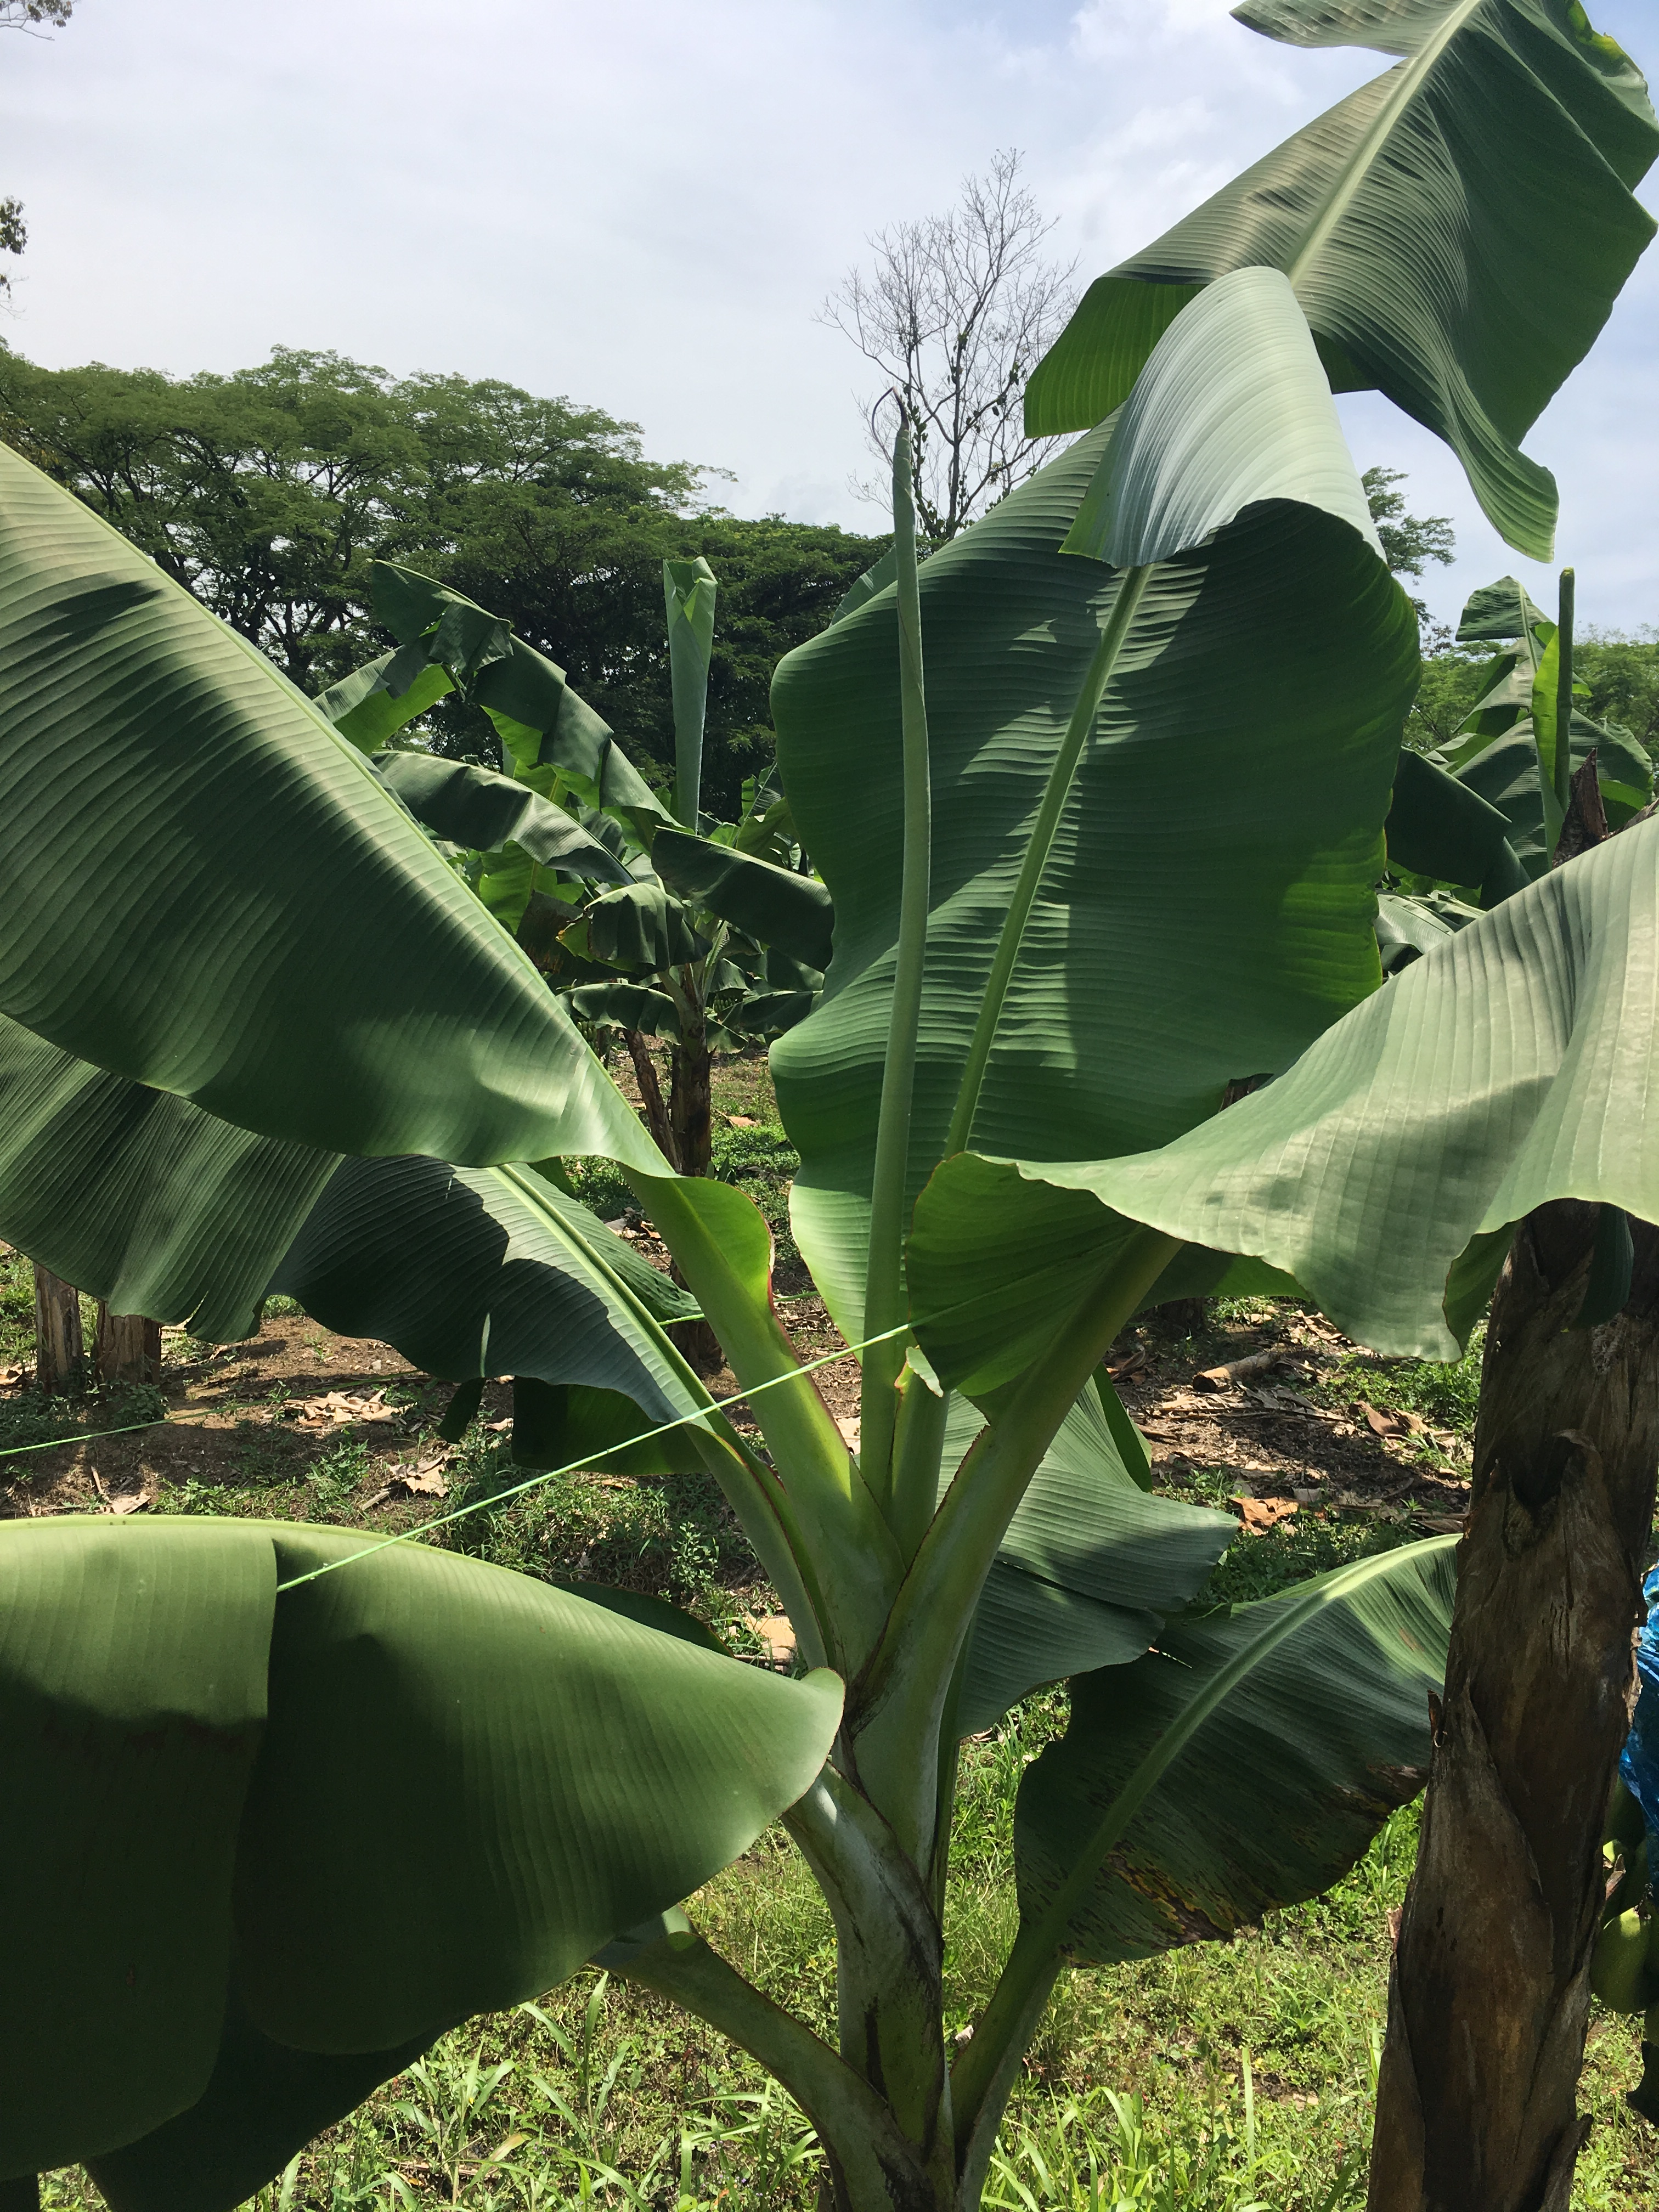candleleafs: (859, 390, 915, 1494), (657, 557, 720, 826), (1554, 570, 1577, 803)
